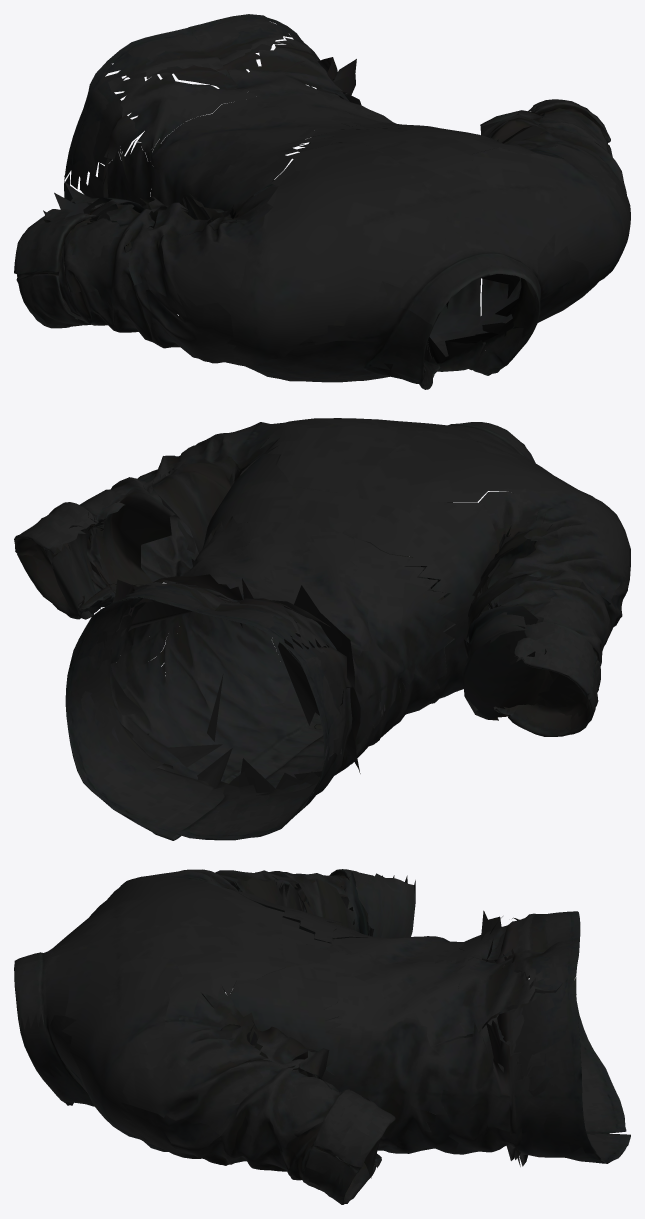
Rendered from adult-base-01.mobile.glb.
3 views of the same model, one above another, from view 1: azimuth 30°, elevation 25°; view 2: azimuth 150°, elevation 25°; view 3: azimuth 270°, elevation 25° (orthographic). The views are drawn at different scales.
Visible parts, largest first — view 1: geometry_0; view 2: geometry_0; view 3: geometry_0.
Boxes of the visible parts, x1,y1,x2,y2 form: geometry_0: [14, 14, 630, 389]; geometry_0: [14, 418, 630, 840]; geometry_0: [14, 869, 630, 1204].
Size of the model in its own units: 0.00813 by 0.00343 by 0.0078.
Materials: 1 (1 with a texture image).
